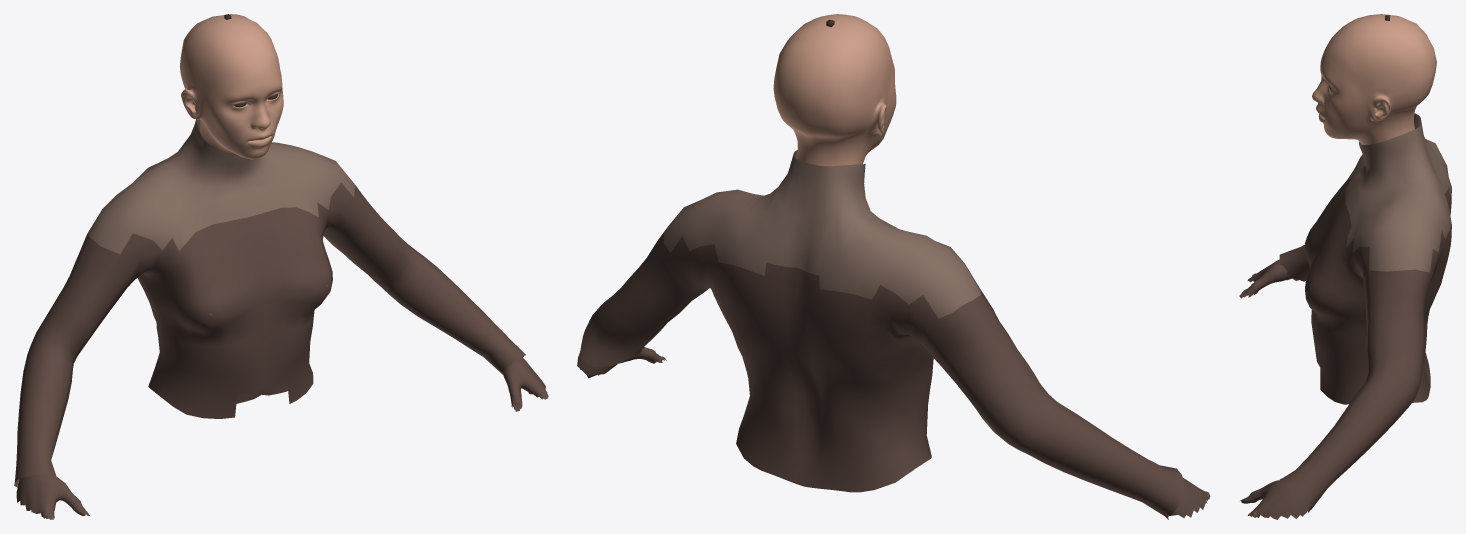
File: avatar_V023_LIPSYNC_DEMO.glb
3 views of the same model, side by side, from view 1: azimuth 30°, elevation 25°; view 2: azimuth 150°, elevation 25°; view 3: azimuth 270°, elevation 25° (orthographic). The views are drawn at different scales.
Parts seen in each view (by area): view 1: ARCHIVISTA_NUOVO_RIFERIMENTO_V49; view 2: ARCHIVISTA_NUOVO_RIFERIMENTO_V49; view 3: ARCHIVISTA_NUOVO_RIFERIMENTO_V49.
Part boxes in pixels (box(x1,y1,x2,y2)): ARCHIVISTA_NUOVO_RIFERIMENTO_V49: box(14, 14, 548, 519); ARCHIVISTA_NUOVO_RIFERIMENTO_V49: box(577, 14, 1210, 519); ARCHIVISTA_NUOVO_RIFERIMENTO_V49: box(1239, 14, 1451, 519).
Bounding box in the file's own units: 0.9237 × 0.6717 × 0.3379.
